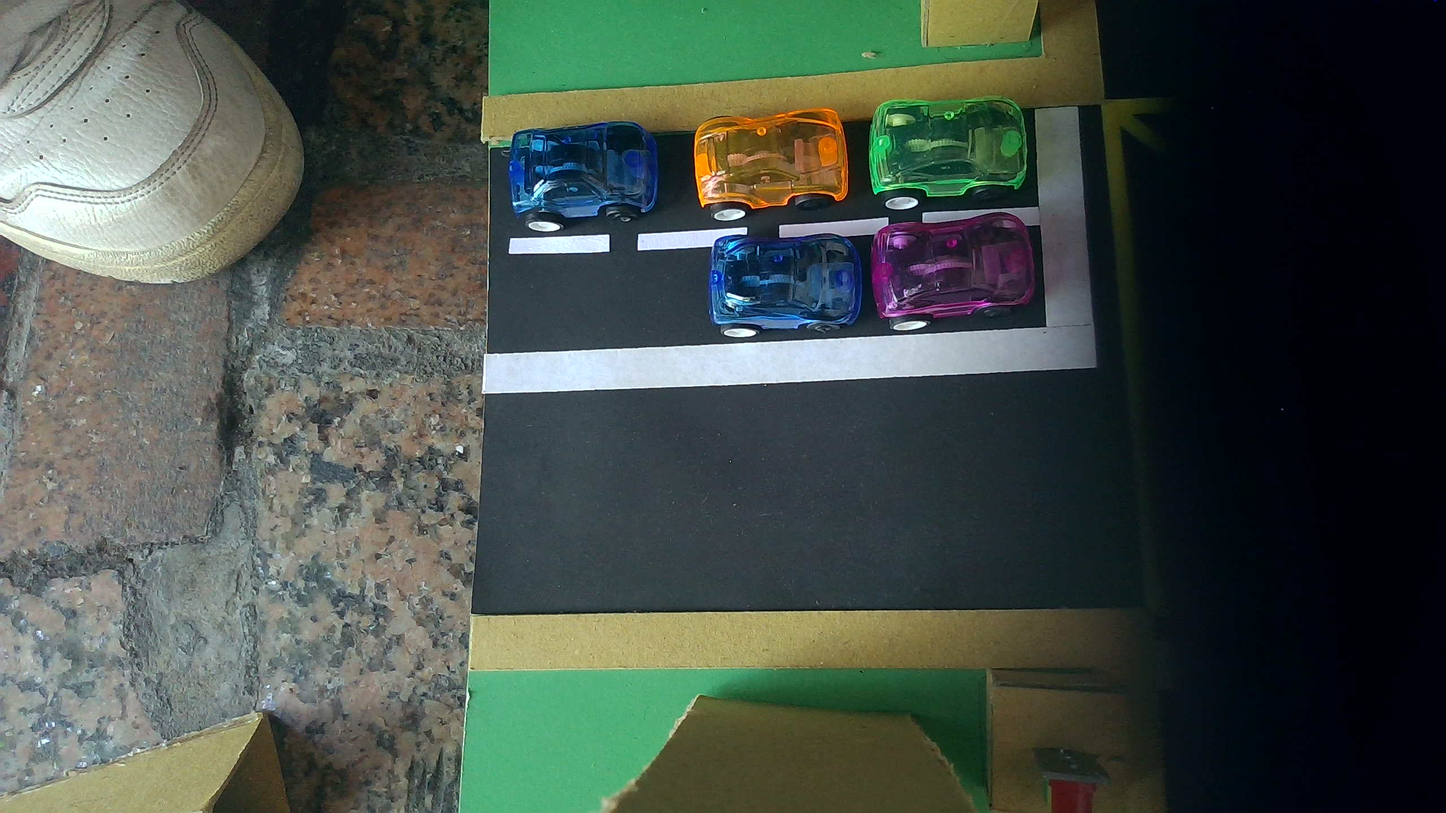Mobil biru: (508, 121, 659, 231), (708, 233, 865, 337)
Mobil hijau: (869, 97, 1027, 209)
Mobil orange: (694, 108, 850, 220)
Mobil ungu: (872, 212, 1036, 331)
